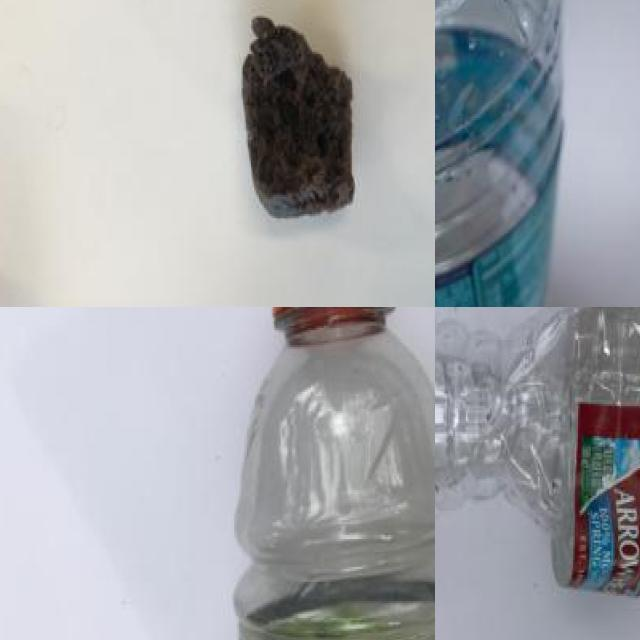compost: (236, 1, 376, 238)
plastic: (231, 307, 435, 640), (435, 307, 640, 583), (435, 0, 577, 307)
